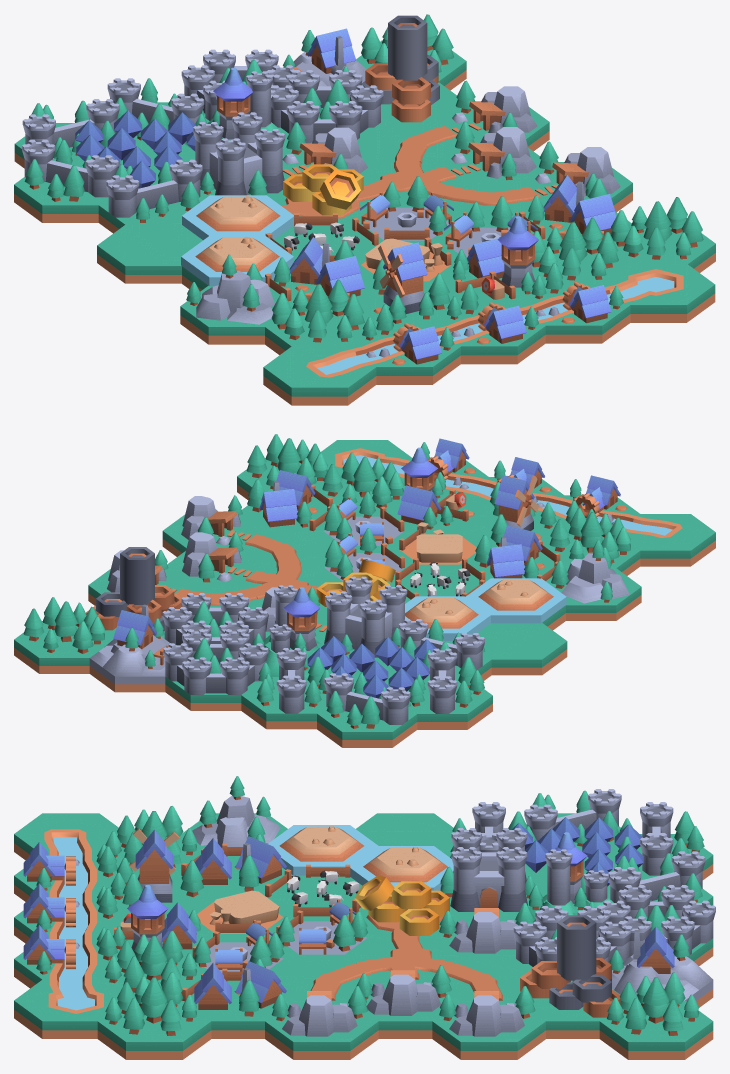
The picture shows the model from 3 angles, top to bottom: view 1: azimuth 30°, elevation 25°; view 2: azimuth 150°, elevation 25°; view 3: azimuth 270°, elevation 25°; orthographic projection. The views are drawn at different scales.
Visible parts, largest first — view 1: building-wall.002, building-castle, building-walls, grass-hill, river-end, building-watermill.002, building-watermill, building-watermill.001, building-archery, grass-forest.002, building-wall, grass-forest (+38 smaller); view 2: building-walls.001, building-wall.001, grass-forest.003, building-wall.003, building-wall.002, building-cabin, building-castle, grass-hill, building-archery, river-end, building-village.001, grass.001 (+30 smaller); view 3: grass-forest.002, grass-forest.003, building-mine, building-castle, building-mine.003, building-village.001, building-walls.001, building-mine.002, river-start, building-mill, building-cabin, building-village (+45 smaller).
Boxes of the visible parts, box(x1,y1,x2,y2) form: building-wall.002: box(14, 139, 118, 222); building-castle: box(193, 112, 287, 199); building-walls: box(271, 70, 383, 143); grass-hill: box(180, 254, 292, 344); river-end: box(263, 346, 376, 405); building-watermill.002: box(349, 304, 460, 384); building-watermill: box(434, 283, 545, 364); building-watermill.001: box(518, 263, 630, 343); building-archery: box(443, 216, 545, 304); grass-forest.002: box(610, 197, 715, 272); building-wall: box(98, 159, 203, 233); grass-forest: box(265, 279, 376, 354); building-walls.001: box(163, 629, 268, 710); building-wall.001: box(317, 673, 417, 747); grass-forest.003: box(14, 597, 112, 673); building-wall.003: box(241, 648, 329, 729); building-wall.002: box(407, 648, 492, 729); building-cabin: box(89, 604, 170, 692); building-castle: box(316, 576, 407, 658); grass-hill: box(547, 540, 641, 620); building-archery: box(388, 447, 488, 531); river-end: box(625, 514, 715, 566); building-village.001: box(241, 470, 332, 531); grass.001: box(478, 623, 567, 675); grass-forest.002: box(97, 972, 211, 1059); grass-forest.003: box(599, 972, 713, 1059); building-mine: box(265, 986, 378, 1059); building-castle: box(440, 828, 544, 917); building-mine.003: box(432, 986, 545, 1059); building-village.001: box(181, 959, 294, 1038); building-walls.001: box(597, 885, 715, 965); building-mine.002: box(356, 965, 461, 1038); river-start: box(14, 979, 118, 1038); building-mill: box(109, 830, 210, 917); building-cabin: box(609, 926, 713, 1007); building-village: box(181, 834, 294, 896).
Bounding box in the file's own units: 27.5 × 5.44 × 35.65.
75 materials, 75 textured.
